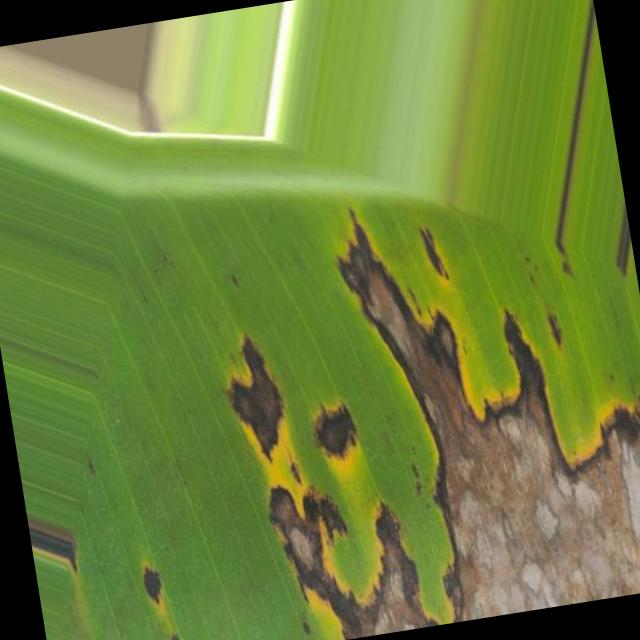Banana_Black_Sigatoka: (165, 185, 640, 640)
